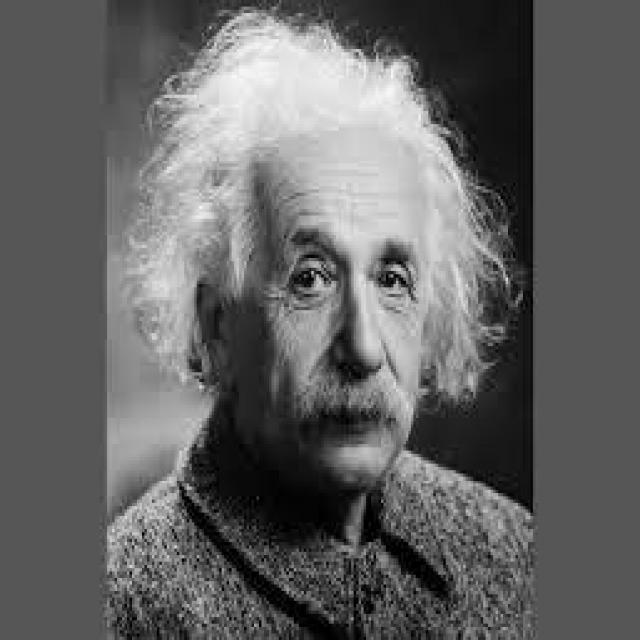person: (112, 10, 533, 633)
